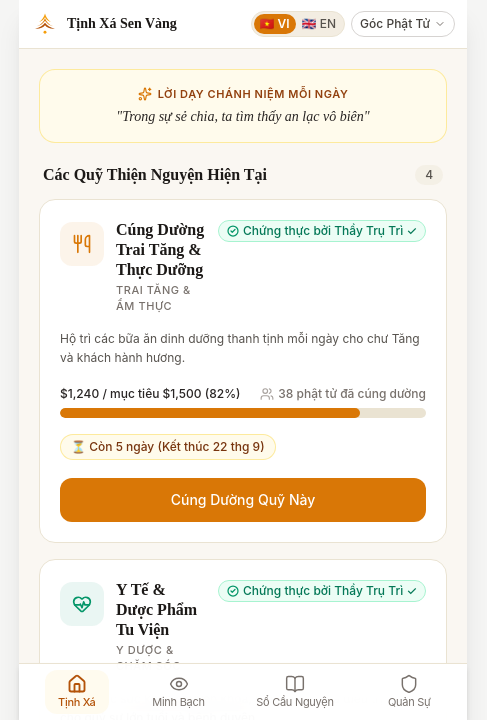
Scenario: Vietnamese Translation Full Coverage › translates Prayer Wall and prayer cards in Vietnamese
Switch to Prayer Wall tab
Click the button "Sổ Cầu Nguyện": (295, 692) [248, 670, 342, 714]
(page scrolled)
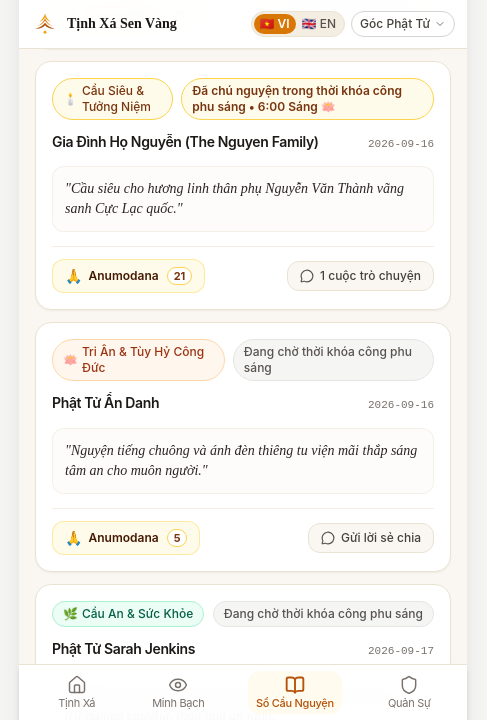
Check: the text "Đã chú nguyện trong thời khóa công phu sáng • 6:00 Sáng 🪷" is shown, box [192, 82, 423, 114]
Check: the text "Đang chờ thời khóa công phu sáng" next to "Tri Ân & Tùy Hỷ Công Đức" is shown, box [244, 344, 412, 375]
